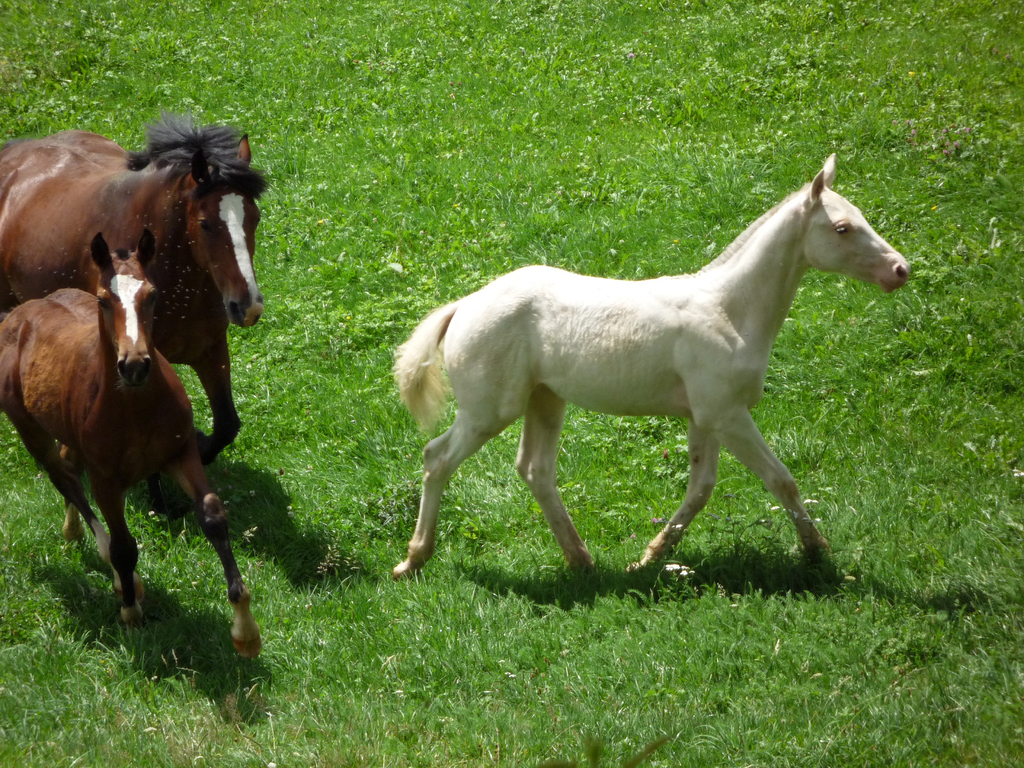horse: (392, 151, 909, 590), (0, 232, 264, 662)
